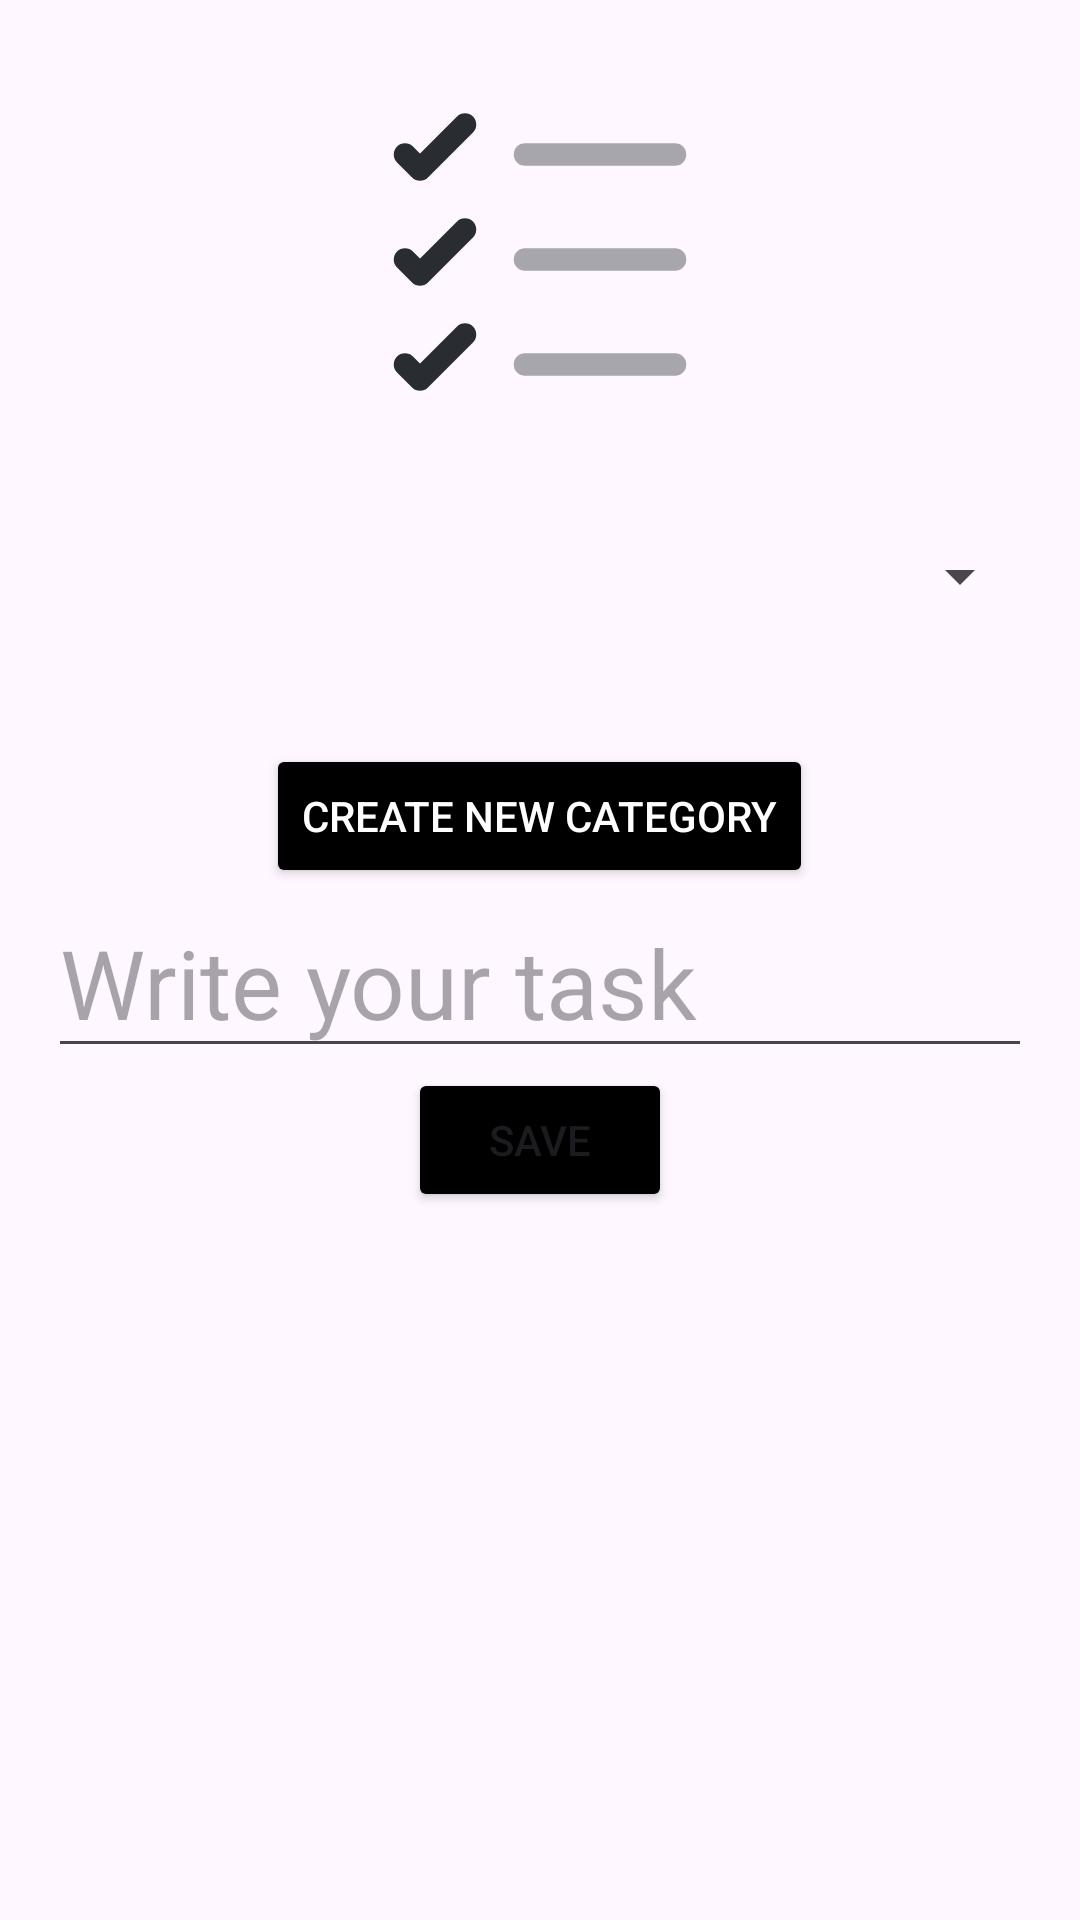

Where to tap for icons on this 1080 × 1920 app screen, as point (x, y):
task: point (539, 252)
